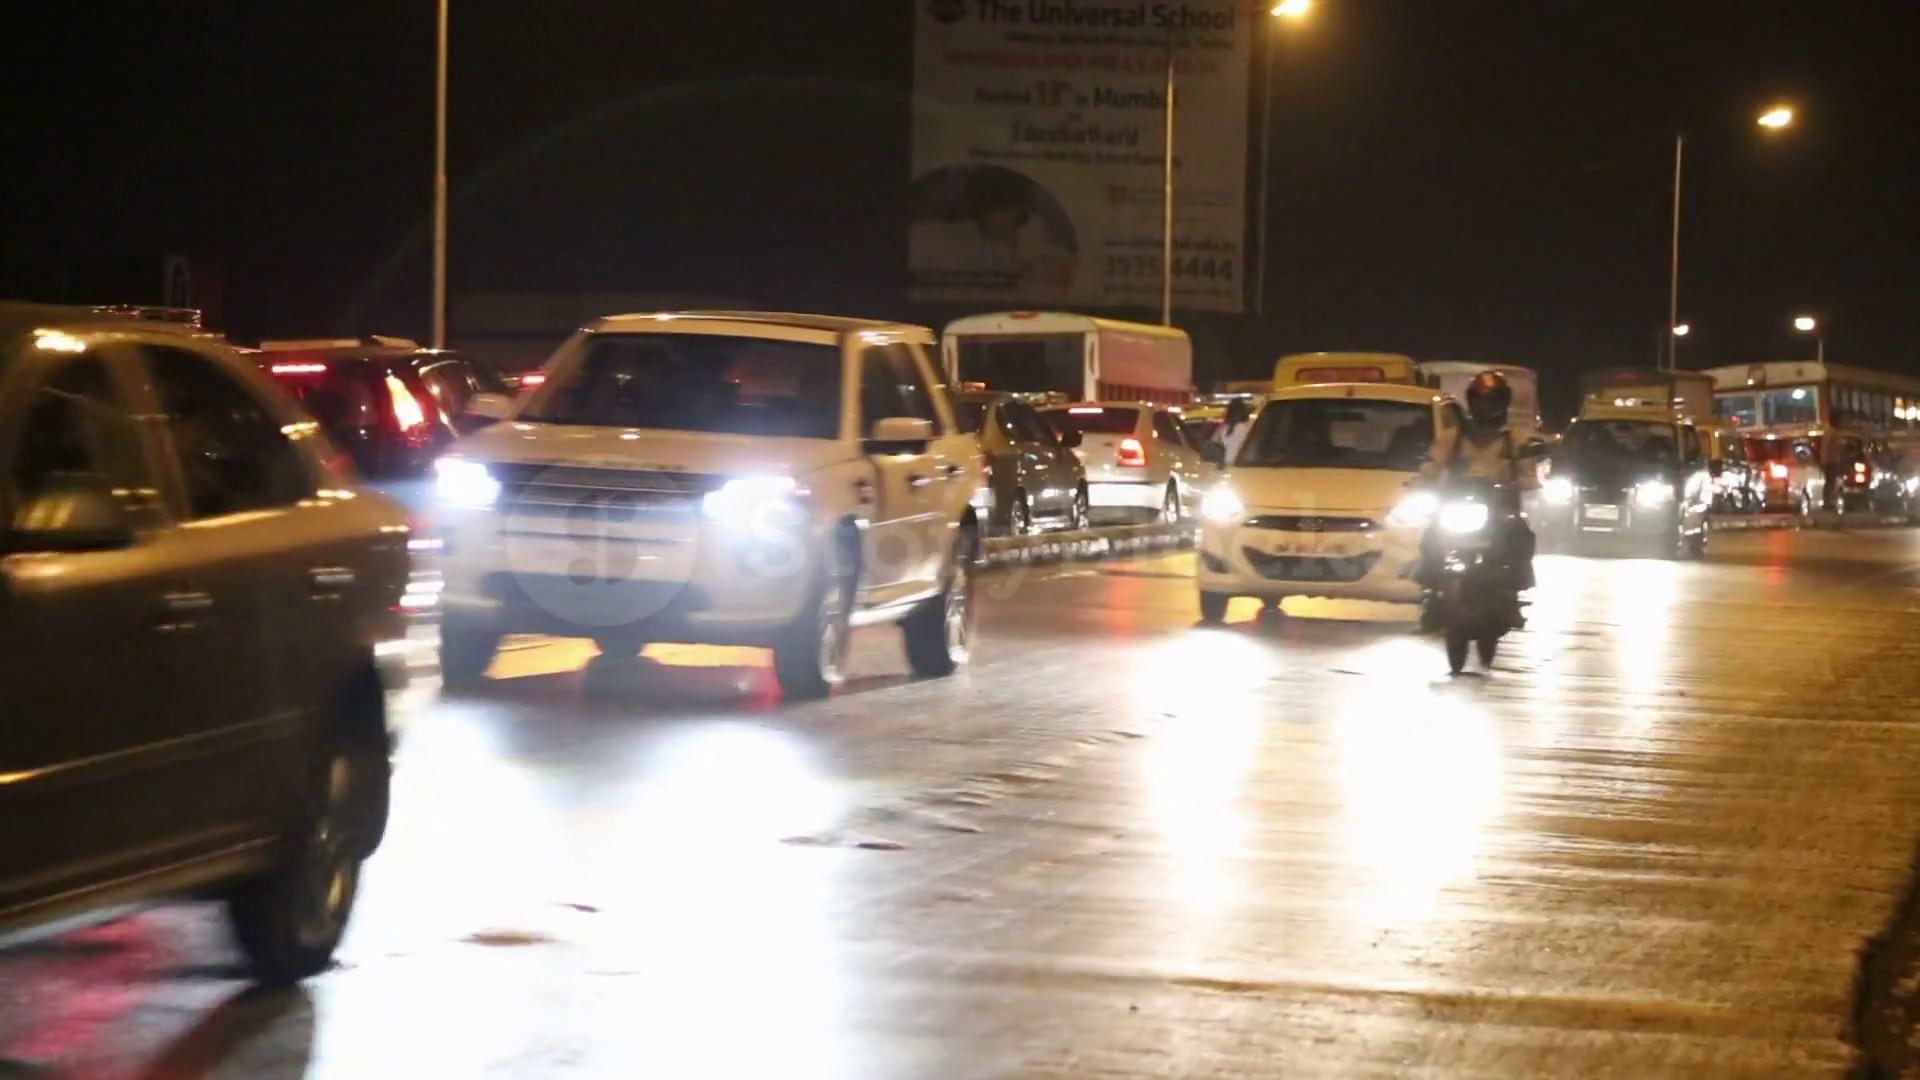rider: (1404, 368, 1550, 677)
